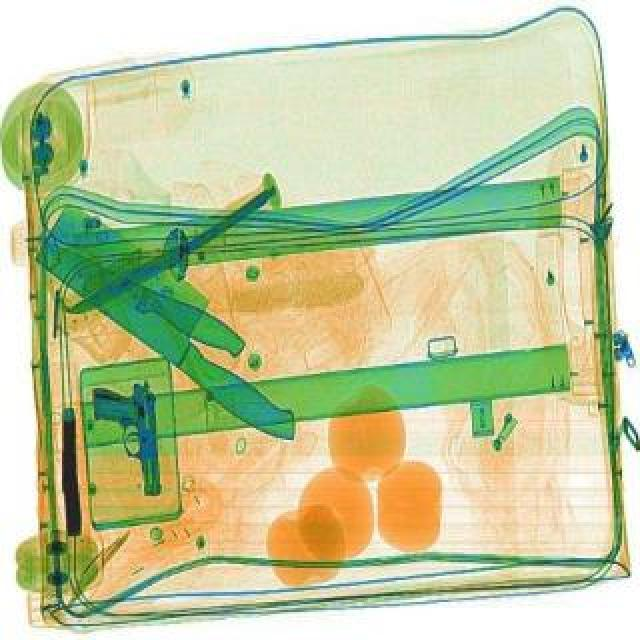gun: (90, 380, 164, 498), (58, 406, 82, 532)
knife: (20, 198, 336, 446), (26, 224, 250, 360), (62, 186, 278, 320)
